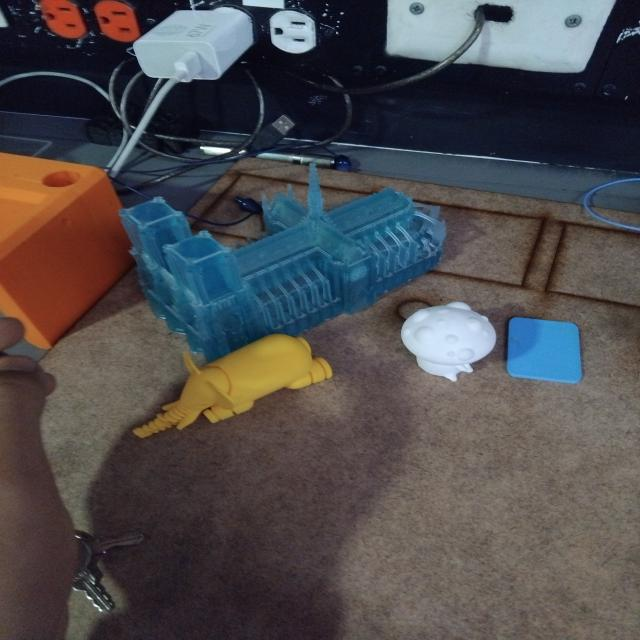Hongo: (396, 298, 500, 384)
